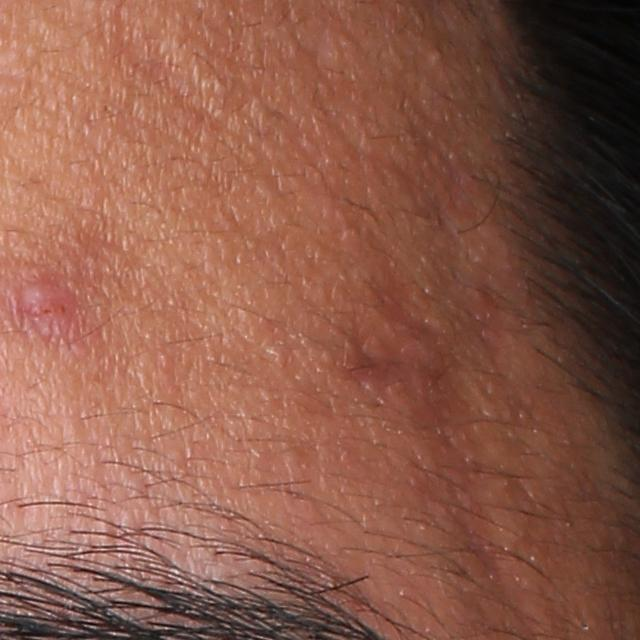comedo: (433, 46, 447, 66)
